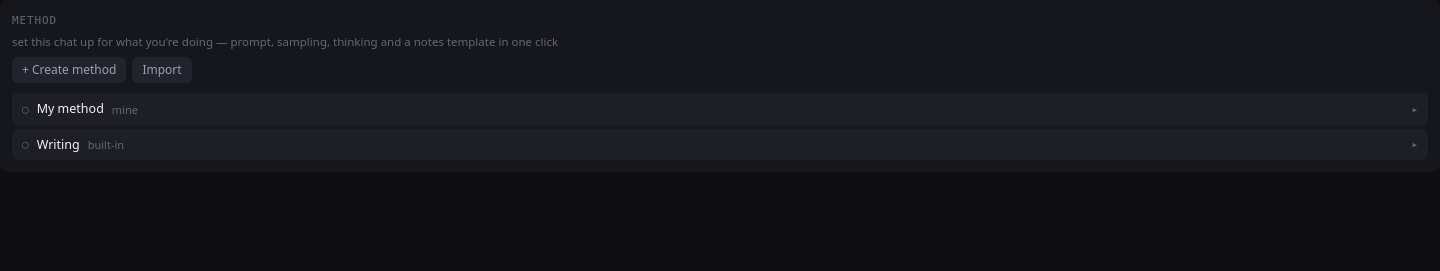
Test: deleting a user method › shows the server's refusal sentence
Click the button "○ My method mine ▸" at x=70, y=109, box [12,94,1428,125]
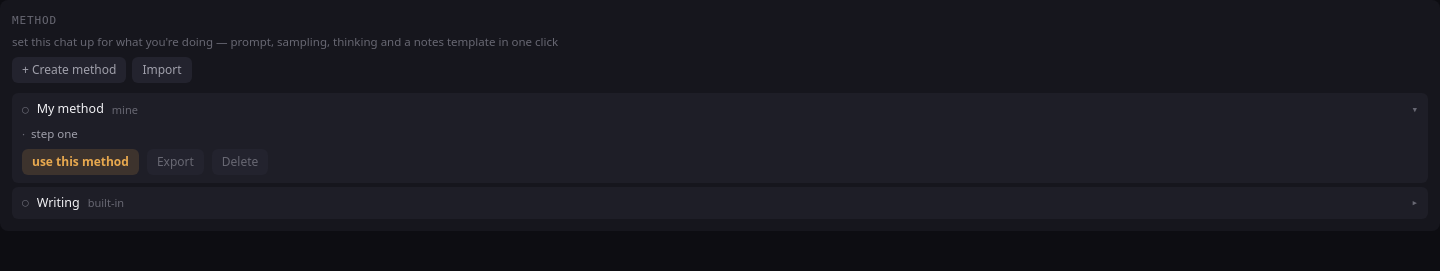
Click the button "Delete" at x=240, y=162, box [212,149,268,175]
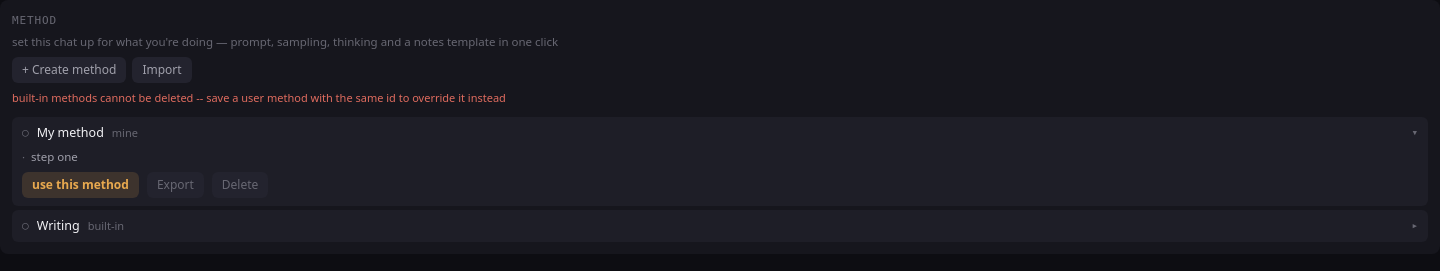
Now the text "built-in methods cannot be deleted" is shown, box [12,90,506,106]
